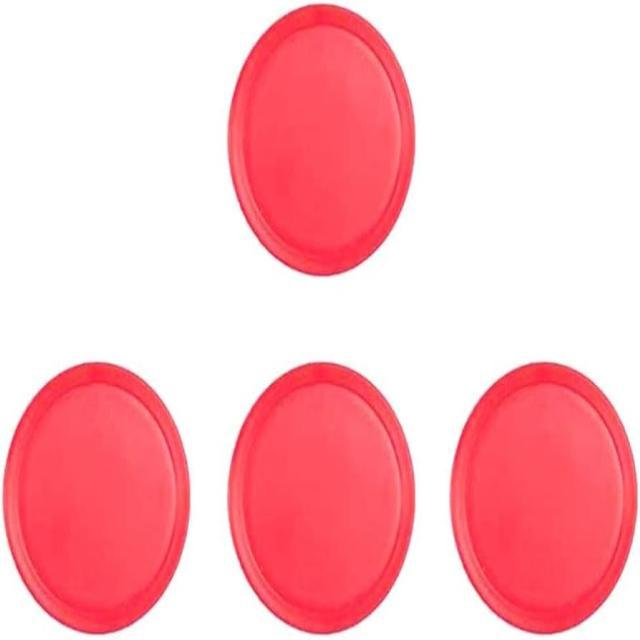chip: (230, 5, 414, 276), (4, 364, 188, 632), (452, 364, 632, 628), (232, 365, 411, 629)
